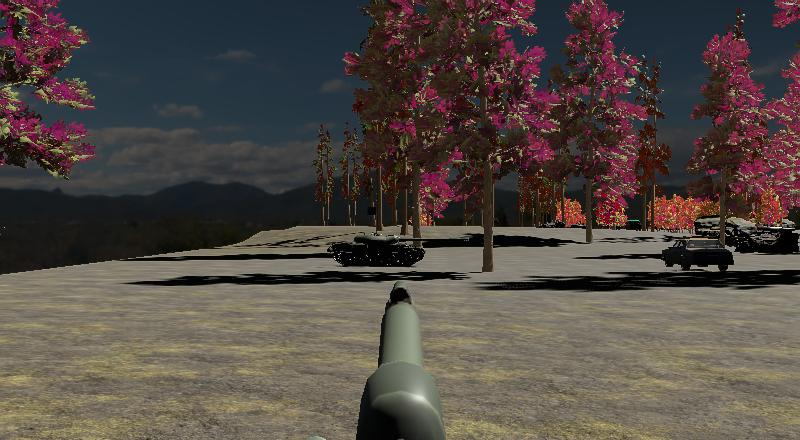Tank: (324, 231, 457, 269)
car: (659, 234, 734, 272), (621, 217, 643, 231)
